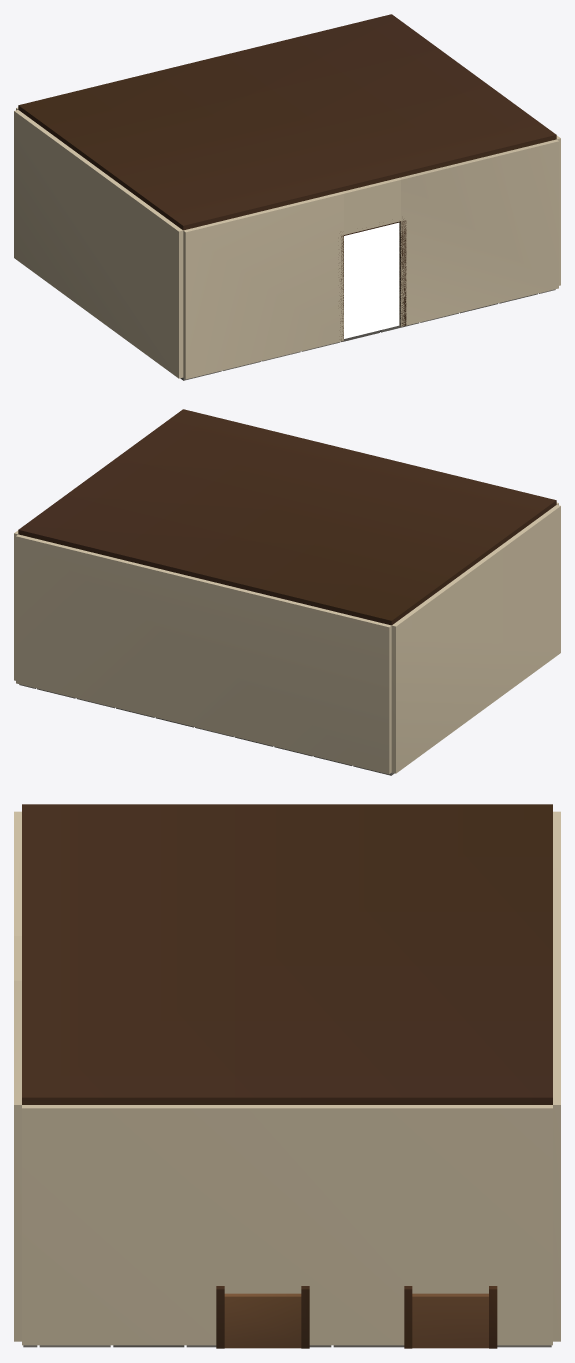
Rendered from room_lodge.glb.
The picture shows the model from 3 angles, top to bottom: view 1: azimuth 30°, elevation 25°; view 2: azimuth 150°, elevation 25°; view 3: azimuth 270°, elevation 25°; orthographic projection. The views are drawn at different scales.
Visible parts, largest first — view 1: room_lodge; view 2: room_lodge; view 3: room_lodge.
Boxes of the visible parts, bbox=[...] form: room_lodge: bbox=[14, 14, 560, 380]; room_lodge: bbox=[14, 409, 560, 775]; room_lodge: bbox=[14, 804, 560, 1348].
Size of the model in its own units: 8.8 by 3.38 by 6.7.
